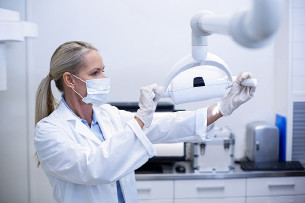face_mask: (77, 54, 110, 107)
